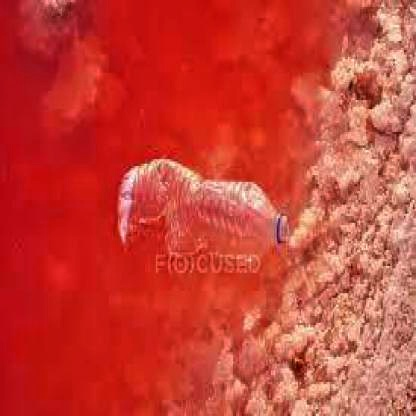pbottle: (97, 146, 296, 254)
